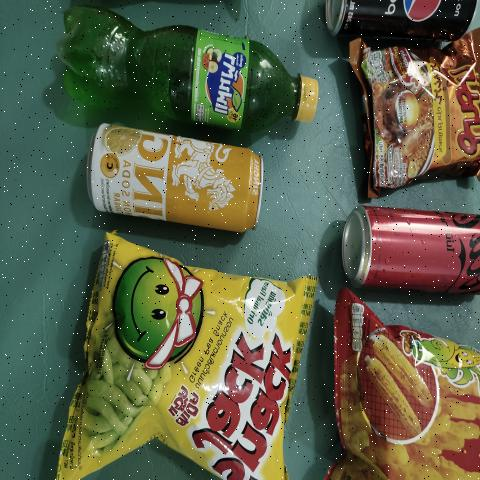coke_red: (343, 212, 480, 273)
fanta_green: (55, 0, 316, 147)
mama: (363, 35, 480, 196)
singha_yellow: (90, 135, 267, 229)
snack_jack: (53, 257, 299, 480)
